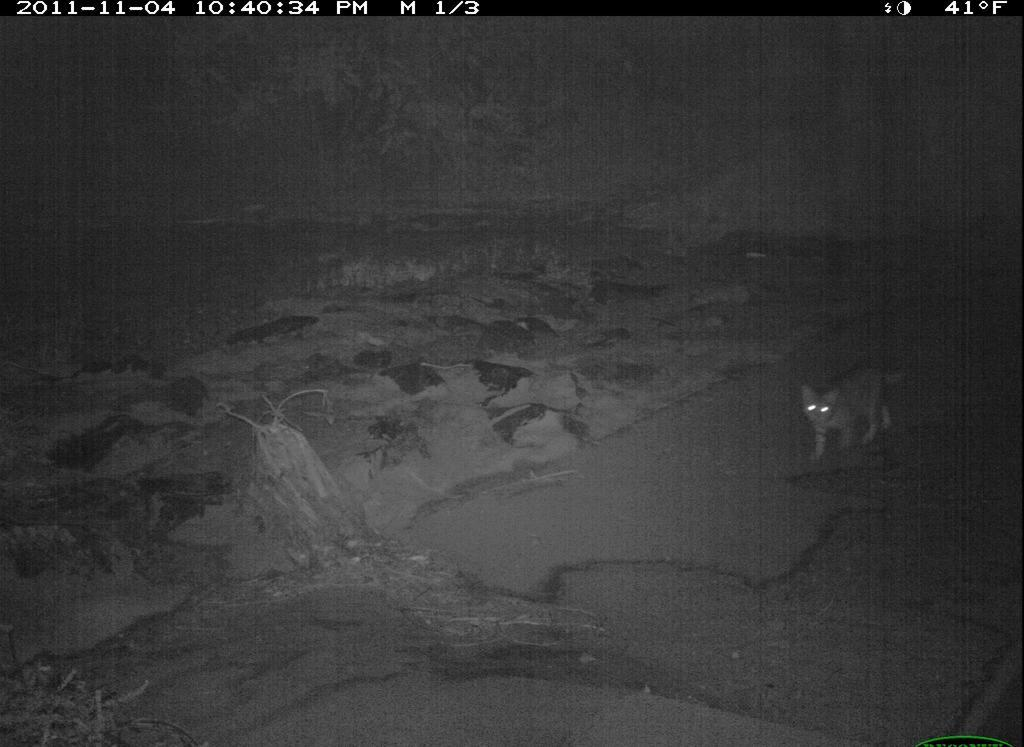cat: (761, 356, 945, 479)
